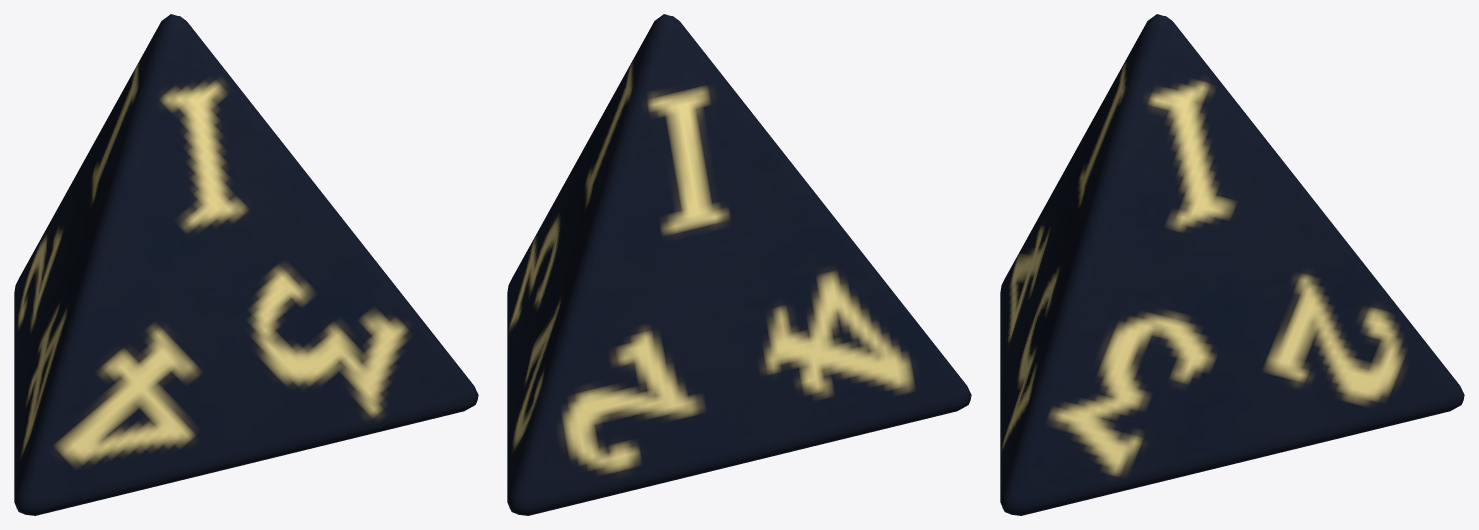
3 views of the same model, side by side, from view 1: azimuth 30°, elevation 25°; view 2: azimuth 150°, elevation 25°; view 3: azimuth 270°, elevation 25° (orthographic).
Visible parts, largest first — view 1: D4_LP; view 2: D4_LP; view 3: D4_LP.
Boxes of the visible parts, x1,y1,x2,y2 form: D4_LP: (14, 14, 478, 515); D4_LP: (507, 14, 971, 515); D4_LP: (1000, 14, 1464, 515).
Size of the model in its own units: 0.012 by 0.00986 by 0.0105.
1 material, 1 textured.
